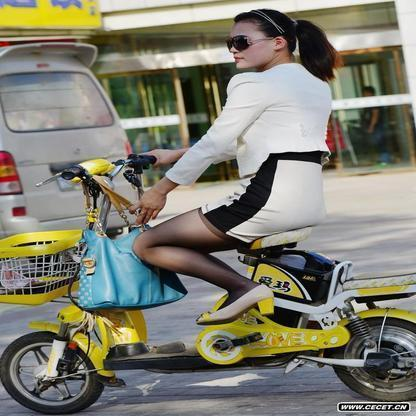target: (7, 7, 411, 404)
